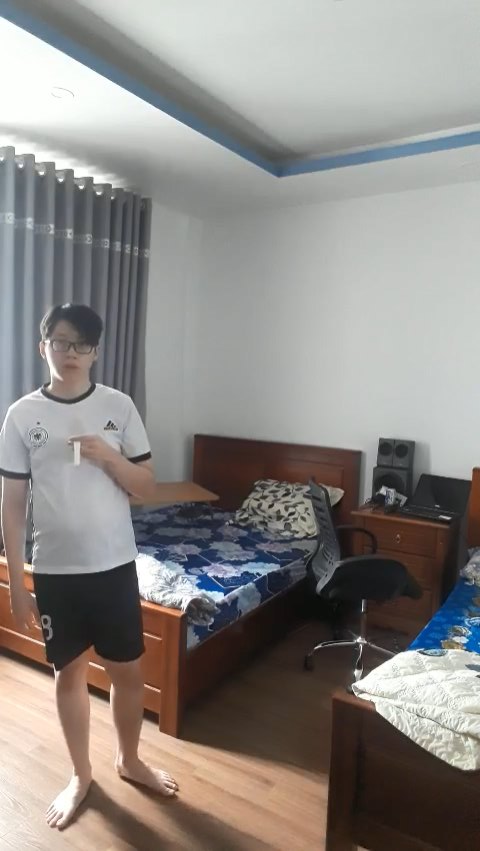cigarette: (71, 442, 83, 467)
person: (5, 288, 195, 835)
